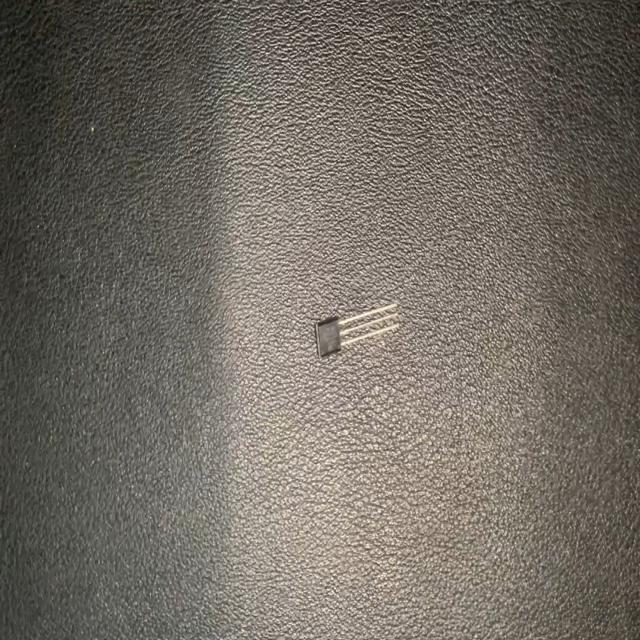BJT: (313, 304, 400, 358)
